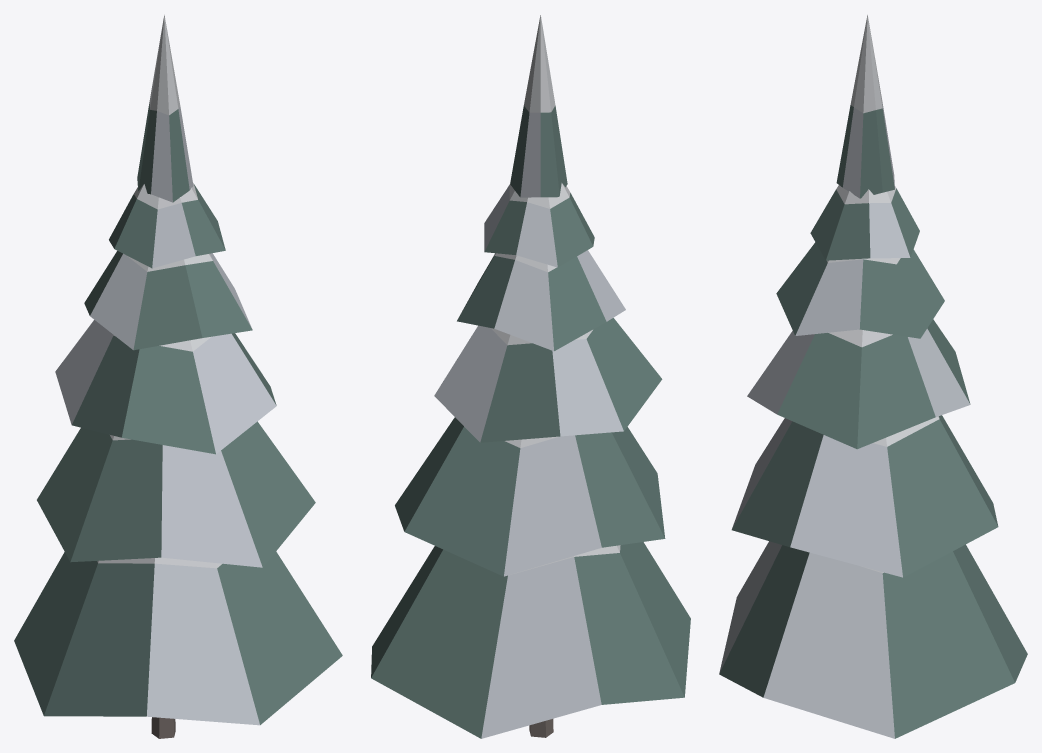
Rendered from kuusi_4.glb.
The picture shows the model from 3 angles, left to right: view 1: azimuth 30°, elevation 25°; view 2: azimuth 150°, elevation 25°; view 3: azimuth 270°, elevation 25°; orthographic projection.
Parts seen in each view (by area): view 1: kuusi_4; view 2: kuusi_4; view 3: kuusi_4.
Boxes of the visible parts, box(x1,y1,x2,y2) form: kuusi_4: box(14, 14, 342, 738); kuusi_4: box(371, 15, 690, 738); kuusi_4: box(719, 15, 1027, 738).
Size of the model in its own units: 6.68 by 16 by 6.32.
